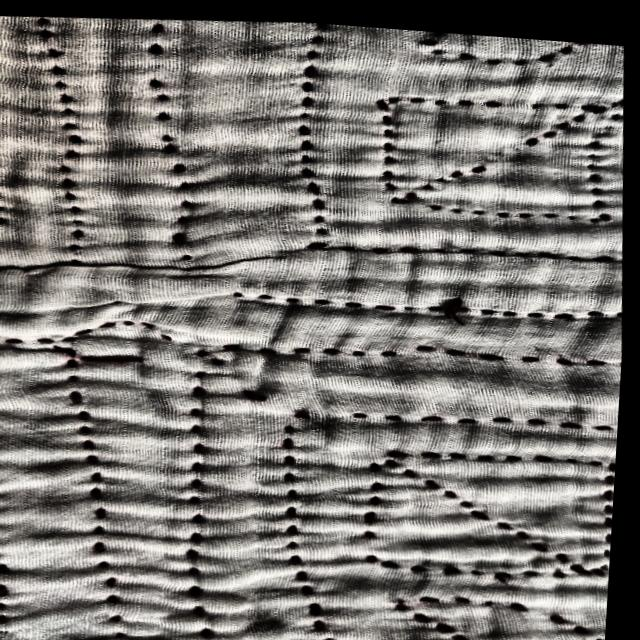Stitch: (36, 337, 167, 377), (426, 279, 488, 327)
